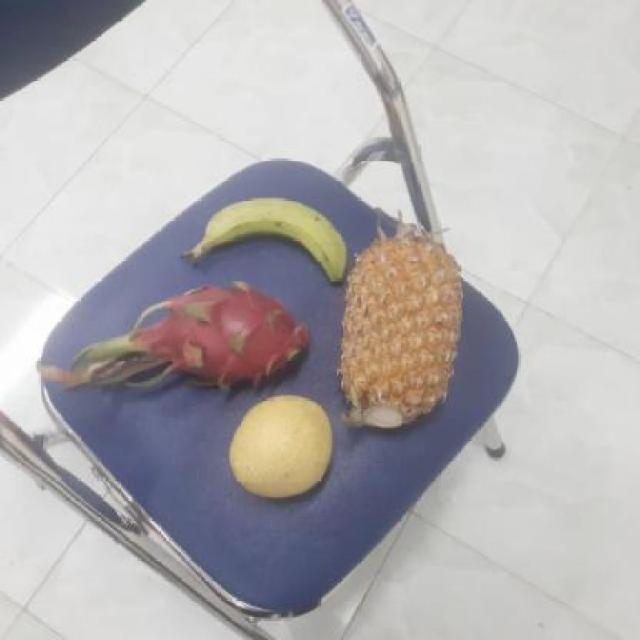banana: (201, 194, 361, 284)
dragon fruit: (137, 282, 315, 395)
pear: (225, 394, 340, 500)
pineapple: (339, 233, 470, 429)
